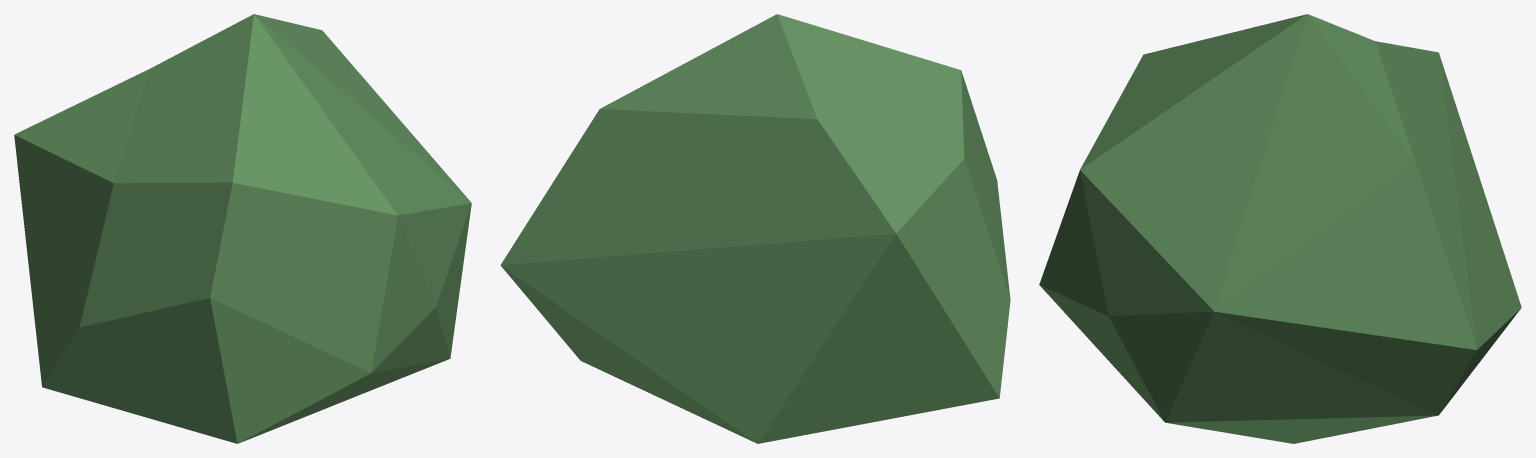
File: Leaves5.fbx
3 renders of one model, left to right at view 1: azimuth 30°, elevation 25°; view 2: azimuth 150°, elevation 25°; view 3: azimuth 270°, elevation 25°, orthographic. The views are drawn at different scales.
Parts seen in each view (by area): view 1: Leaves5; view 2: Leaves5; view 3: Leaves5.
Part boxes in pixels (x1=…): Leaves5: x1=14, y1=14, x2=471, y2=443; Leaves5: x1=500, y1=14, x2=1010, y2=443; Leaves5: x1=1039, y1=14, x2=1521, y2=443.
Size of the model in its own units: 205 by 202 by 204.
